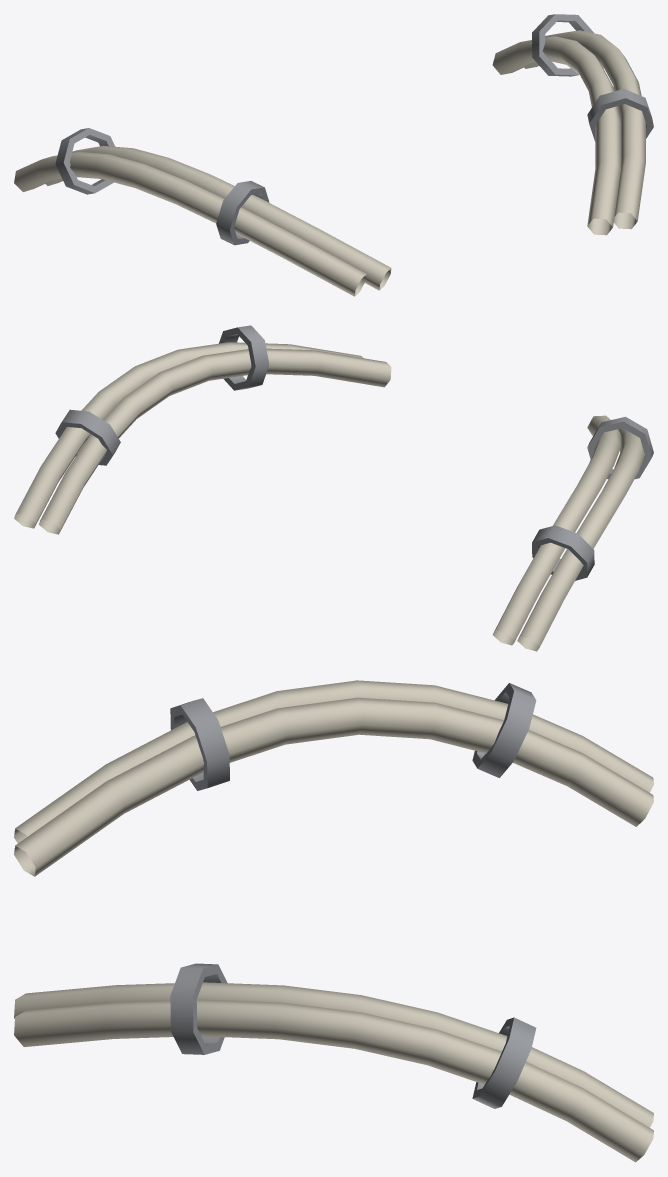
Rendered from wr_harness.obj.
3 renders of one model, top to bottom at view 1: azimuth 30°, elevation 25°; view 2: azimuth 150°, elevation 25°; view 3: azimuth 270°, elevation 25°, orthographic. The views are drawn at different scales.
Visible parts, largest first — view 1: wr_harness; view 2: wr_harness; view 3: wr_harness.
Boxes of the visible parts, x1,y1,x2,y2 form: wr_harness: (14,14,653,296); wr_harness: (14,325,653,651); wr_harness: (14,680,653,1162).
Bounding box in the file's own units: 0.7108 × 0.1329 × 0.5162.
